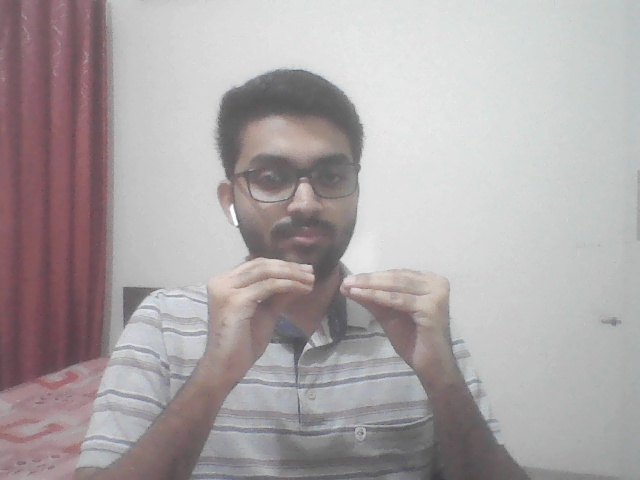more: (187, 248, 474, 399)
